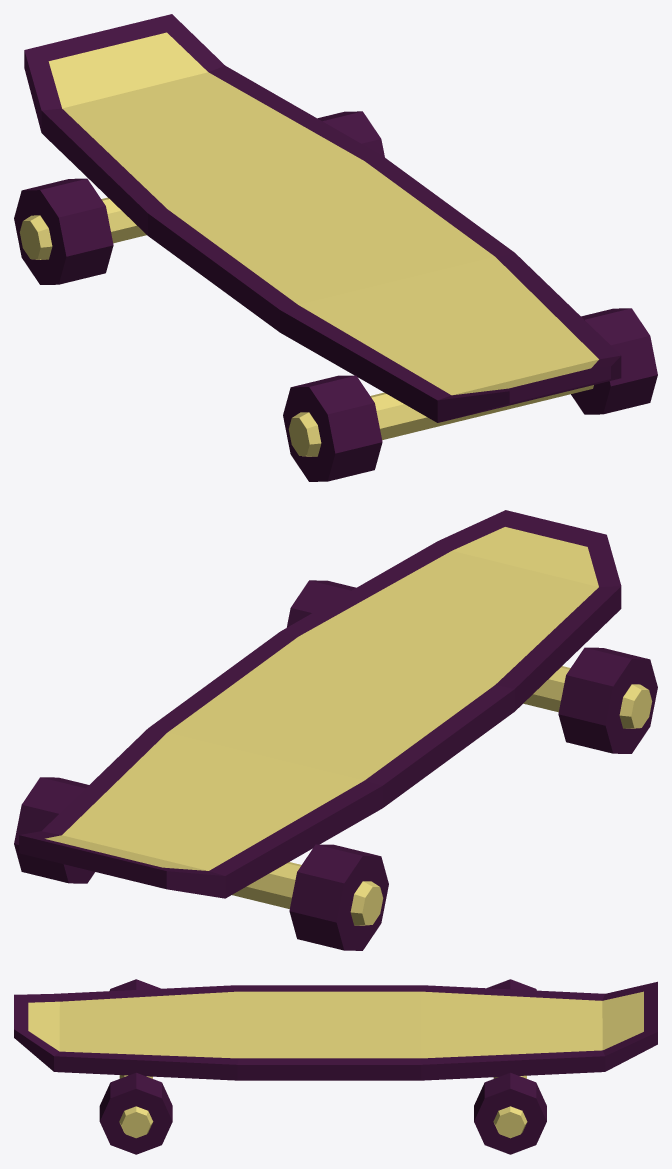
The model's file is Board.fbx.
The picture shows the model from 3 angles, top to bottom: view 1: azimuth 30°, elevation 25°; view 2: azimuth 150°, elevation 25°; view 3: azimuth 270°, elevation 25°; orthographic projection. The views are drawn at different scales.
Visible parts, largest first — view 1: Cylinder; view 2: Cylinder; view 3: Cylinder.
Boxes of the visible parts, left/top/right/bottom form: Cylinder: left=14, top=14, right=657, bottom=481; Cylinder: left=14, top=510, right=657, bottom=950; Cylinder: left=14, top=979, right=657, bottom=1154.
Size of the model in its own units: 59.65 by 22.54 by 140.
